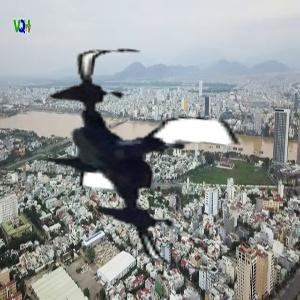drone: (32, 41, 267, 276)
